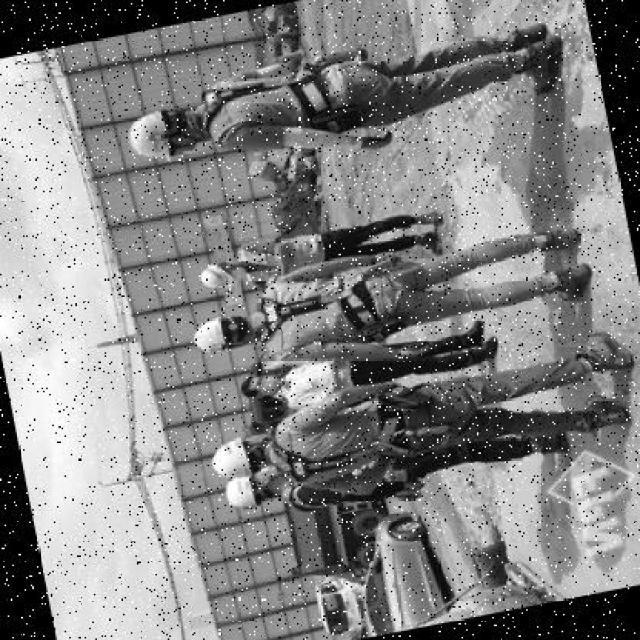Arnes_seguridad: (261, 377, 452, 486), (189, 47, 346, 158), (246, 266, 399, 357), (278, 448, 418, 513)
